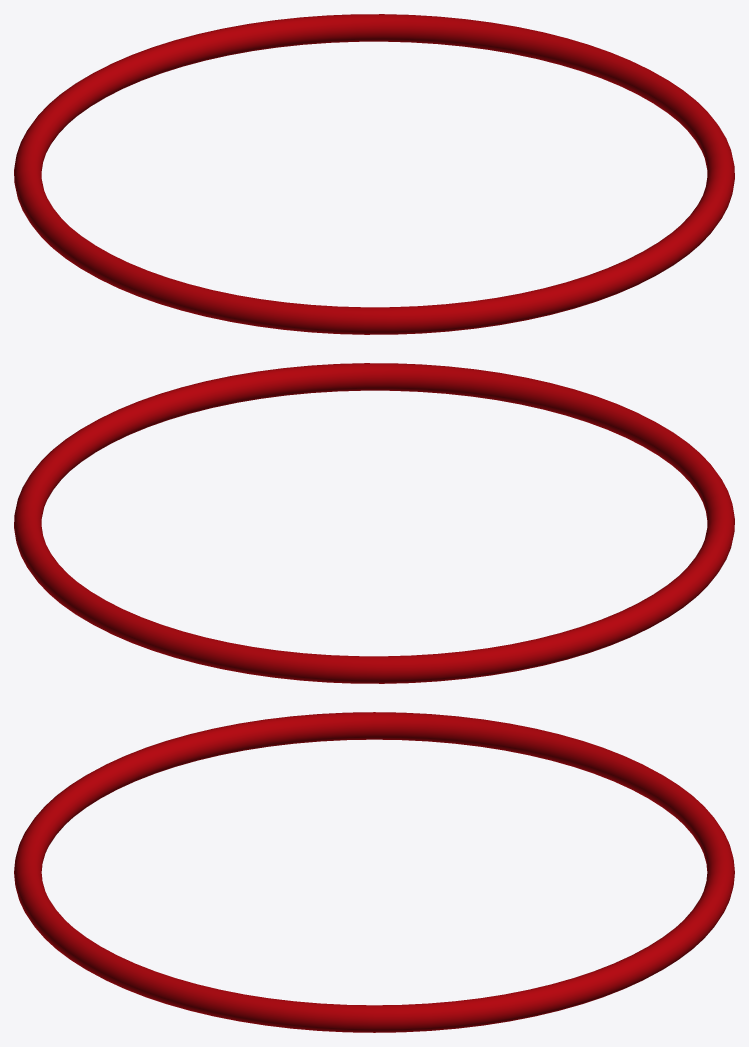
File: attackRing.fbx
3 renders of one model, top to bottom at view 1: azimuth 30°, elevation 25°; view 2: azimuth 150°, elevation 25°; view 3: azimuth 270°, elevation 25°, orthographic.
Parts seen in each view (by area): view 1: Torus; view 2: Torus; view 3: Torus.
Boxes of the visible parts, x1,y1,x2,y2 form: Torus: (14,14,734,334); Torus: (14,363,734,683); Torus: (14,712,734,1032).
Bounding box in the file's own units: 208 × 208 × 7.97.
